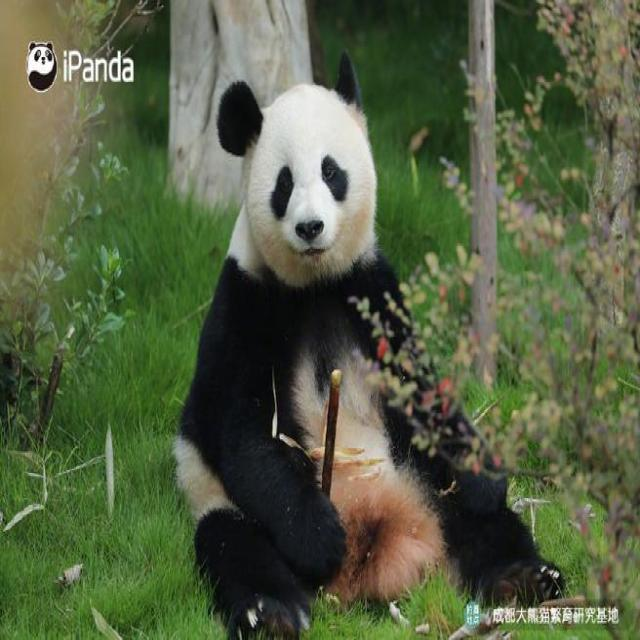panda: (162, 73, 569, 628)
